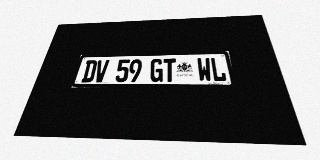5: (115, 59, 130, 82)
9: (128, 59, 142, 82)
D: (81, 60, 98, 82)
G: (150, 59, 163, 82)
L: (210, 57, 227, 82)
T: (163, 58, 176, 82)
V: (93, 60, 109, 82)
W: (197, 58, 212, 82)
